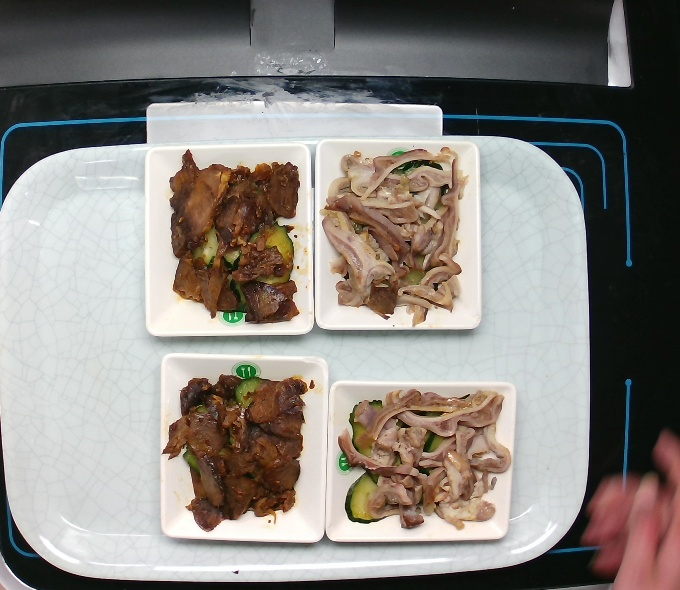wcq-JiangNiuRou: (159, 363, 319, 536), (163, 145, 303, 331)
wcq-ZhuDu: (318, 140, 468, 334), (336, 384, 514, 533)
